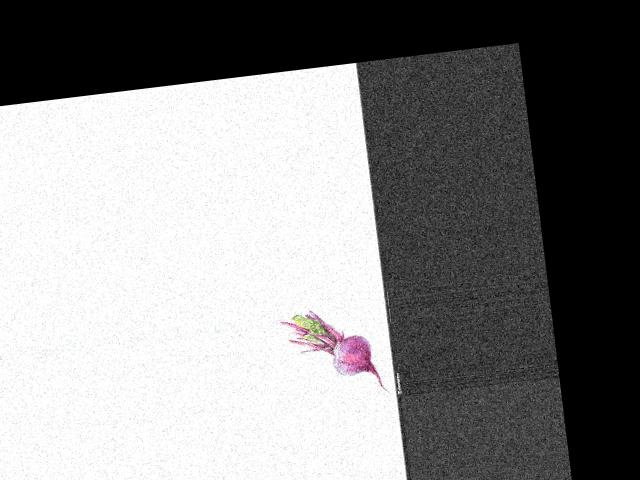beet: (278, 301, 391, 405)
